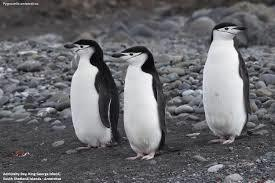chinstrap: (187, 8, 264, 156), (60, 30, 128, 157), (113, 30, 169, 164)
